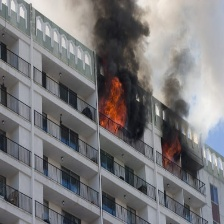fire: (96, 77, 127, 134), (162, 136, 182, 169)
smoke: (85, 1, 152, 85), (160, 11, 196, 138)
